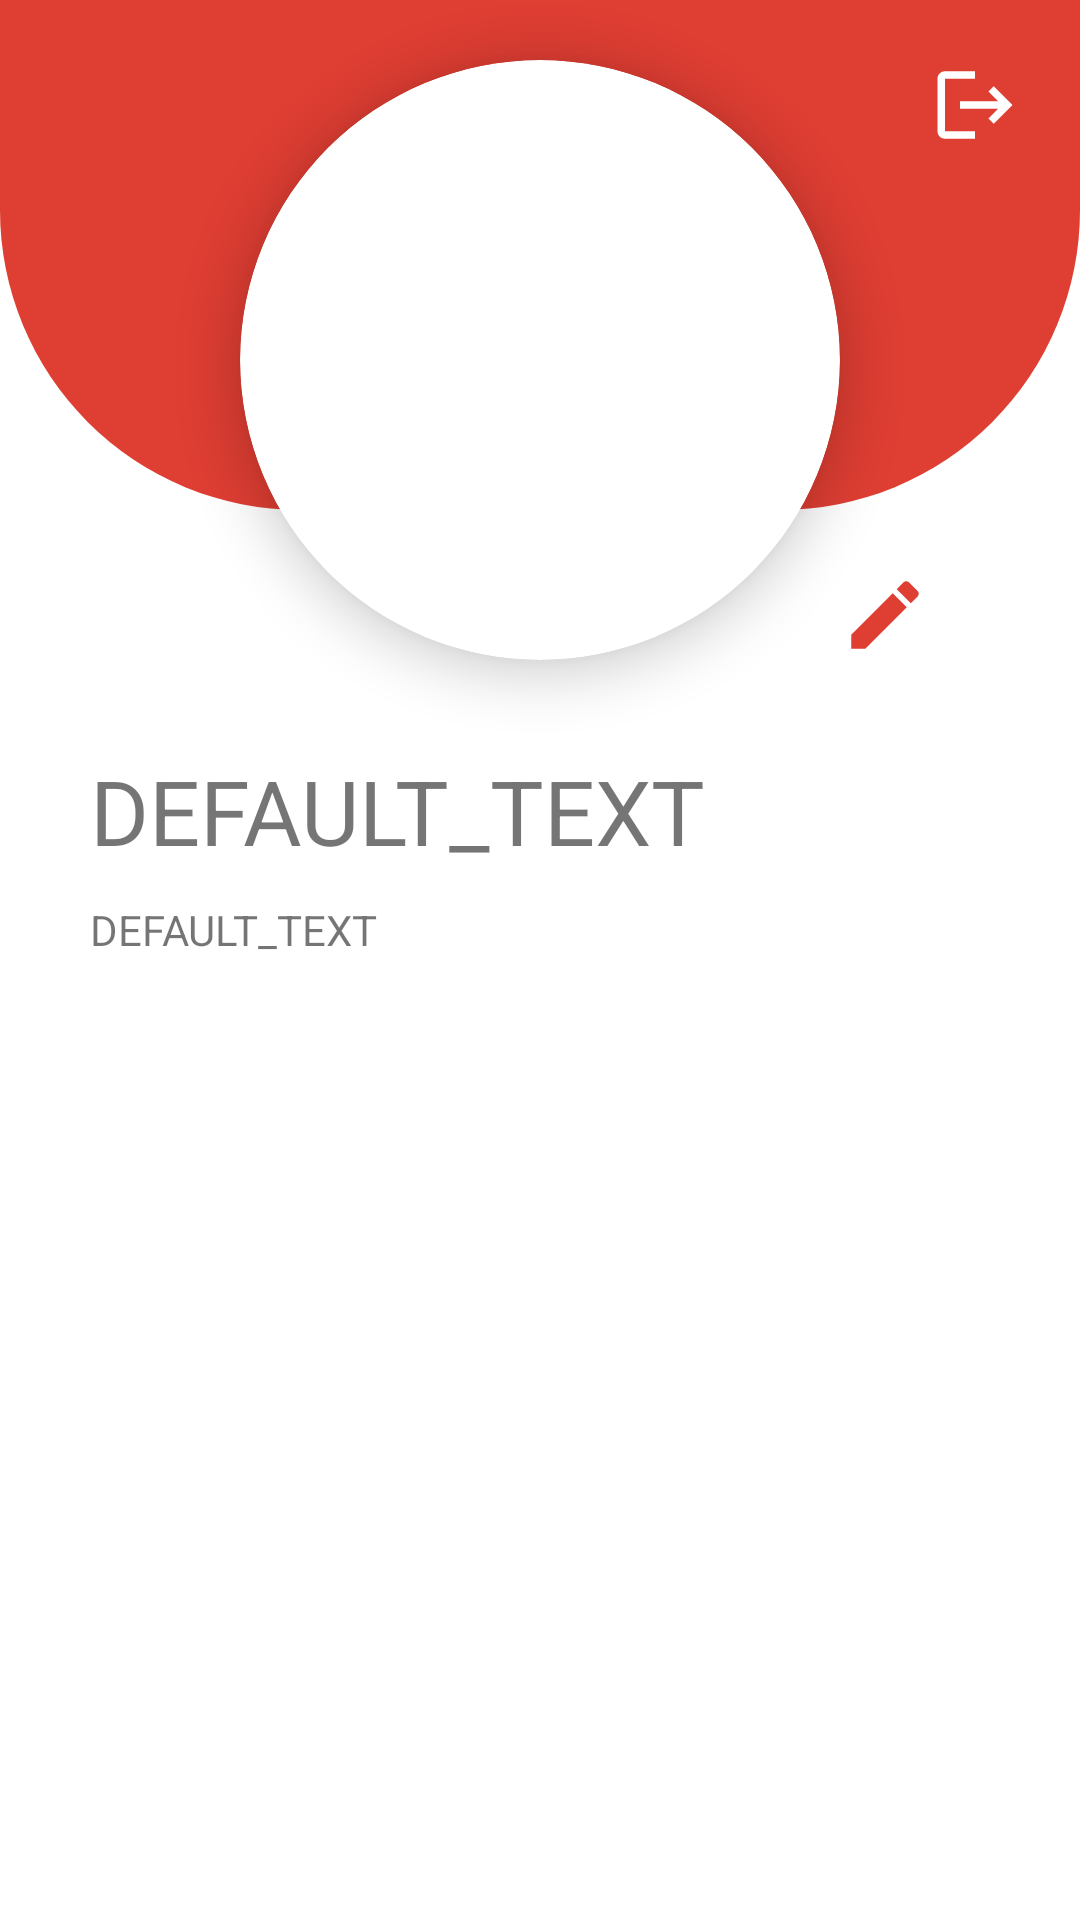

Locate icon controls on the screen. Image size 1080×1920, boxes as (x1, y1, x2, y2).
edit: (851, 581, 919, 649)
